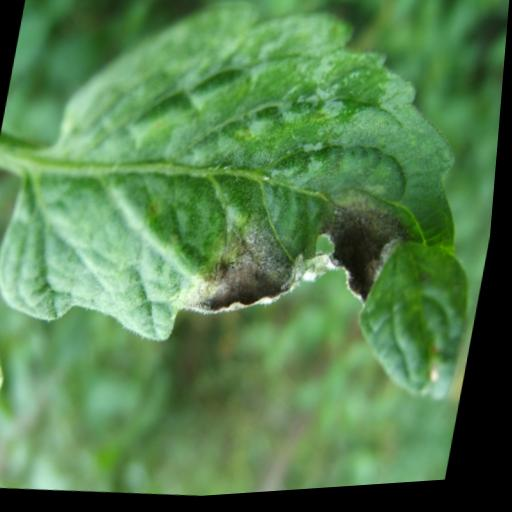Late Blight: (0, 0, 512, 402)
